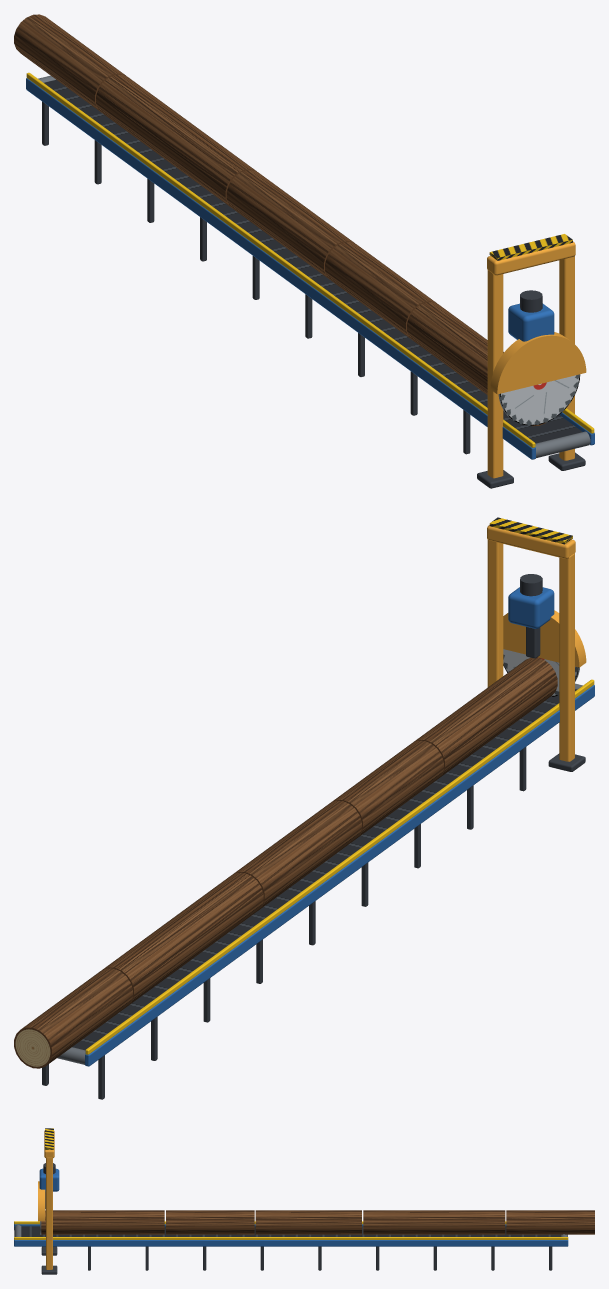
Rendered from saw.glb.
The picture shows the model from 3 angles, top to bottom: view 1: azimuth 30°, elevation 25°; view 2: azimuth 150°, elevation 25°; view 3: azimuth 270°, elevation 25°; orthographic projection. The views are drawn at different scales.
Size of the model in its own units: 2.74 by 6.19 by 26.2.
Materials: 14 (6 with a texture image).
